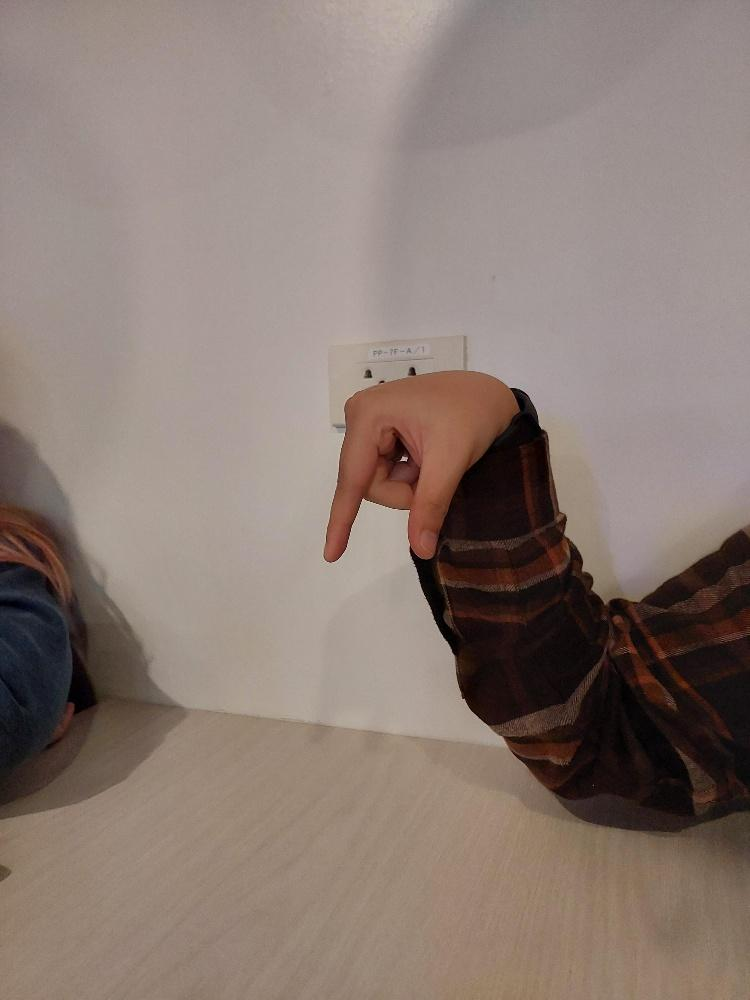q: (320, 364, 523, 569)
